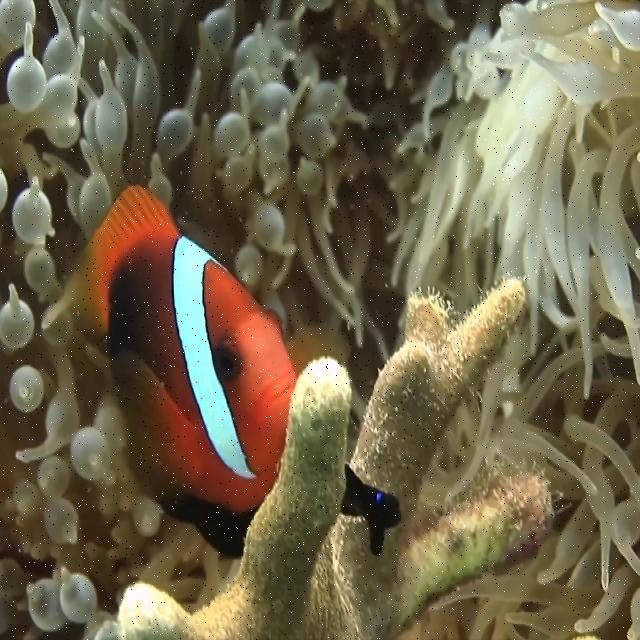fish: (63, 184, 296, 507)
reefs: (94, 281, 556, 639)
